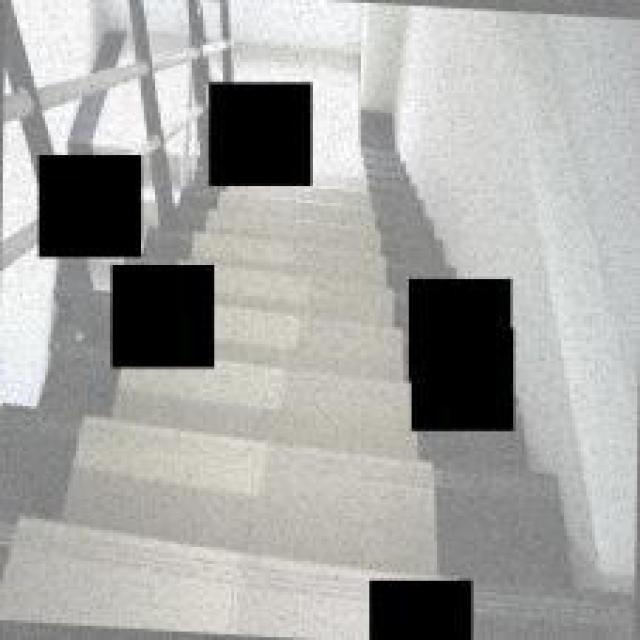downstair: (221, 210, 404, 573)
